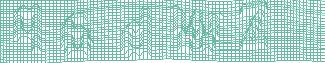6: (58, 9, 95, 60)
W: (171, 5, 220, 56)
d: (118, 5, 154, 61)
q: (11, 3, 42, 55)
z: (236, 1, 271, 51)
